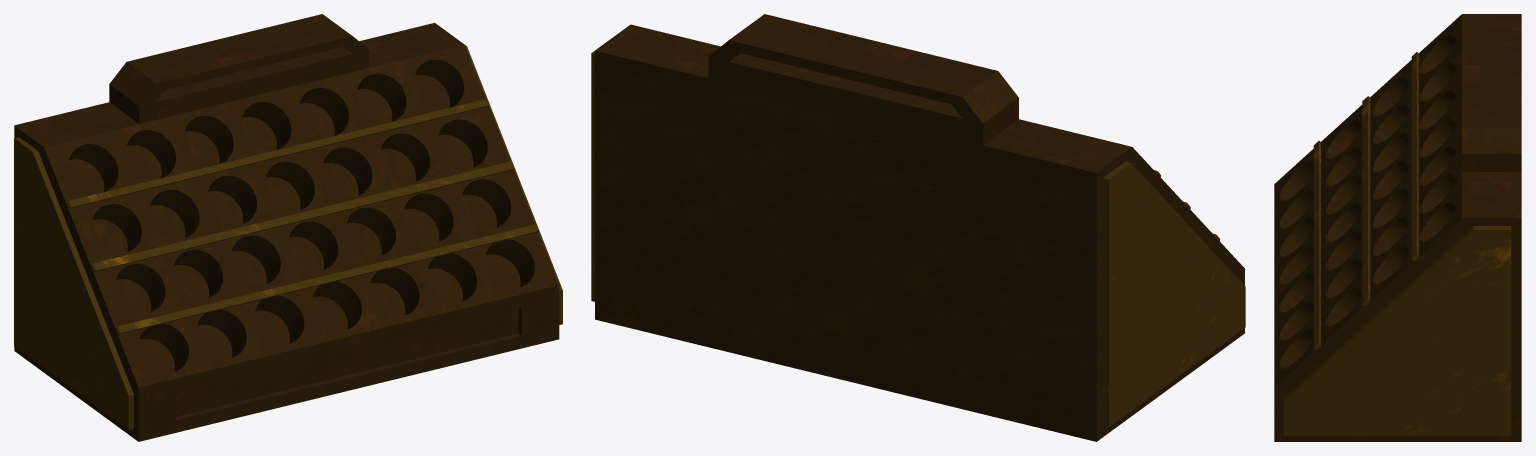
Rendered from Final_Filler_Hand stamps holder.glb.
3 renders of one model, left to right at view 1: azimuth 30°, elevation 25°; view 2: azimuth 150°, elevation 25°; view 3: azimuth 270°, elevation 25°, orthographic. The views are drawn at different scales.
Parts seen in each view (by area): view 1: Stampholder, Cube.002, Cube.001, Cube.003; view 2: Stampholder, Cube.002, Cube.003; view 3: Stampholder, Cube.003, Cube.001.
Boxes of the visible parts, x1,y1,x2,y2 form: Stampholder: [14, 14, 559, 441]; Cube.002: [14, 137, 133, 429]; Cube.001: [66, 99, 539, 334]; Cube.003: [465, 45, 562, 324]; Stampholder: [595, 14, 1244, 441]; Cube.002: [1102, 161, 1245, 427]; Cube.003: [591, 51, 594, 301]; Stampholder: [1274, 14, 1521, 441]; Cube.003: [1283, 226, 1511, 436]; Cube.001: [1313, 52, 1419, 350].
Size of the model in its own units: 37.32 by 21.49 by 18.52.
Materials: 4 (4 with a texture image).
